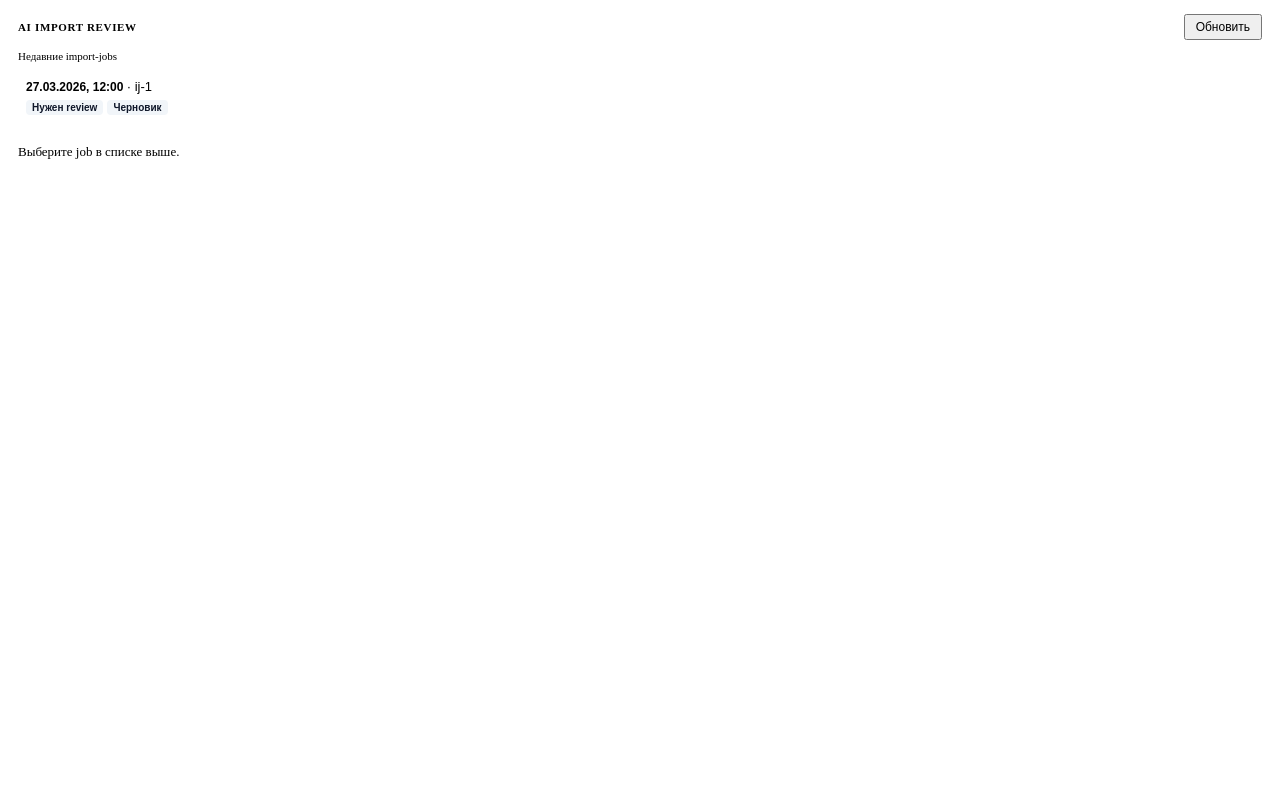
Test: ImportReviewPanel integration › internal bearing: да без выбранных стен — apply-review disabled
Click the button with test id "ir-job-row-ij-1".
click(75, 86)  # box [18, 70, 1262, 125]
(page scrolled)
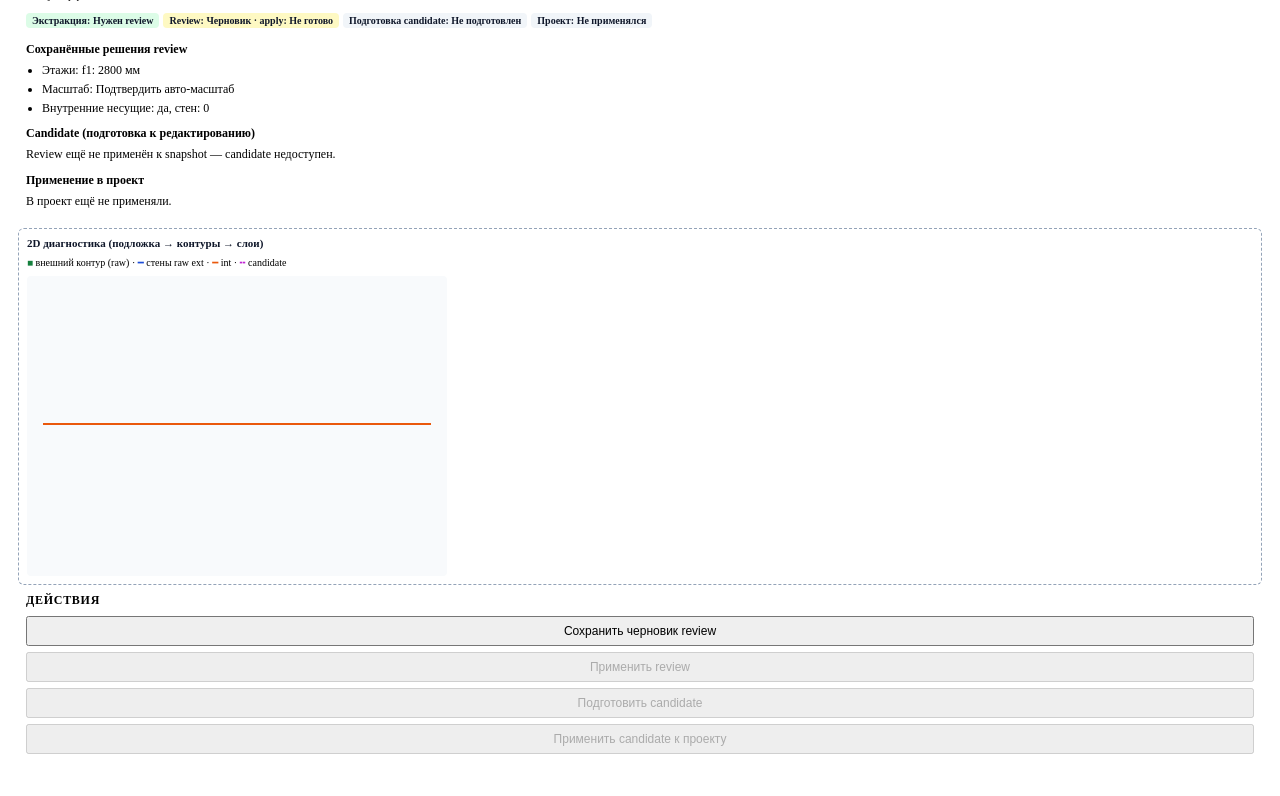
Expected: the button with test id "ir-apply-review" is disabled, [26, 652, 1254, 682]
